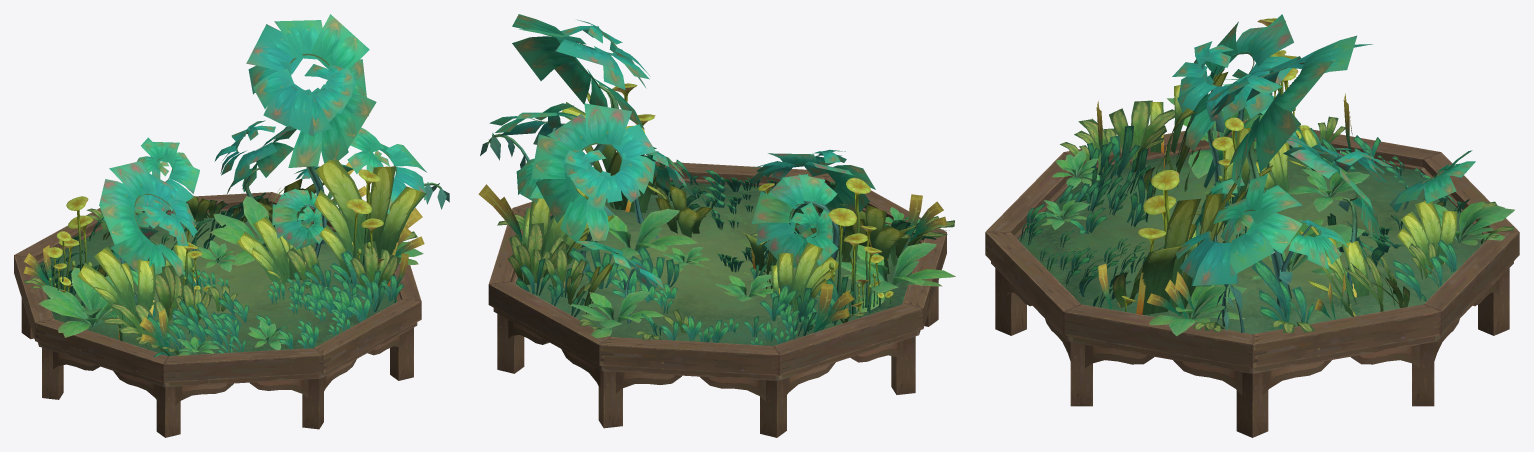
File: Homeworld_Ani_Exterior_Xm_Thing_Prop_MachineButterfly_01_Lod0.fbx
The picture shows the model from 3 angles, left to right: view 1: azimuth 30°, elevation 25°; view 2: azimuth 150°, elevation 25°; view 3: azimuth 270°, elevation 25°; orthographic projection. The views are drawn at different scales.
Visible parts, largest first — view 1: Homeworld_Ani_Exterior_Xm_Thing_Prop_MachineButterfly_01_Lod, Homeworld_Ani_Exterior_Xm_Thing_Prop_MachineButterfly_02_Vo, Area_Xm_Grass_SZL_Hsg_01_Lod0, Area_Xm_Grass_SZL_Hsg_01_Lod0 (2), Area_Xm_Grass_SZL_Hsg_01_Lod0 (1), Area_Xm_Grass_SZL_Hsg_01_Lod0 (3); view 2: Homeworld_Ani_Exterior_Xm_Thing_Prop_MachineButterfly_01_Lod, Homeworld_Ani_Exterior_Xm_Thing_Prop_MachineButterfly_02_Vo, Area_Xm_Grass_SZL_Hsg_01_Lod0 (2), Area_Xm_Grass_SZL_Hsg_01_Lod0 (1); view 3: Homeworld_Ani_Exterior_Xm_Thing_Prop_MachineButterfly_01_Lod, Homeworld_Ani_Exterior_Xm_Thing_Prop_MachineButterfly_02_Vo, Area_Xm_Grass_SZL_Hsg_01_Lod0, Area_Xm_Grass_SZL_Hsg_01_Lod0 (3).
Boxes of the visible parts, bbox=[...] form: Homeworld_Ani_Exterior_Xm_Thing_Prop_MachineButterfly_01_Lod: bbox=[23, 14, 449, 357]; Homeworld_Ani_Exterior_Xm_Thing_Prop_MachineButterfly_02_Vo: bbox=[14, 192, 421, 437]; Area_Xm_Grass_SZL_Hsg_01_Lod0: bbox=[340, 169, 386, 290]; Area_Xm_Grass_SZL_Hsg_01_Lod0 (2): bbox=[49, 196, 93, 307]; Area_Xm_Grass_SZL_Hsg_01_Lod0 (1): bbox=[46, 231, 71, 313]; Area_Xm_Grass_SZL_Hsg_01_Lod0 (3): bbox=[182, 225, 210, 302]; Homeworld_Ani_Exterior_Xm_Thing_Prop_MachineButterfly_01_Lod: bbox=[478, 14, 955, 345]; Homeworld_Ani_Exterior_Xm_Thing_Prop_MachineButterfly_02_Vo: bbox=[488, 161, 946, 437]; Area_Xm_Grass_SZL_Hsg_01_Lod0 (2): bbox=[828, 177, 870, 317]; Area_Xm_Grass_SZL_Hsg_01_Lod0 (1): bbox=[857, 225, 893, 313]; Homeworld_Ani_Exterior_Xm_Thing_Prop_MachineButterfly_01_Lod: bbox=[1020, 14, 1514, 336]; Homeworld_Ani_Exterior_Xm_Thing_Prop_MachineButterfly_02_Vo: bbox=[985, 120, 1519, 437]; Area_Xm_Grass_SZL_Hsg_01_Lod0: bbox=[1121, 170, 1181, 315]; Area_Xm_Grass_SZL_Hsg_01_Lod0 (3): bbox=[1212, 117, 1243, 205].
Bounding box in the file's own units: 2.61 × 1.74 × 2.36.
